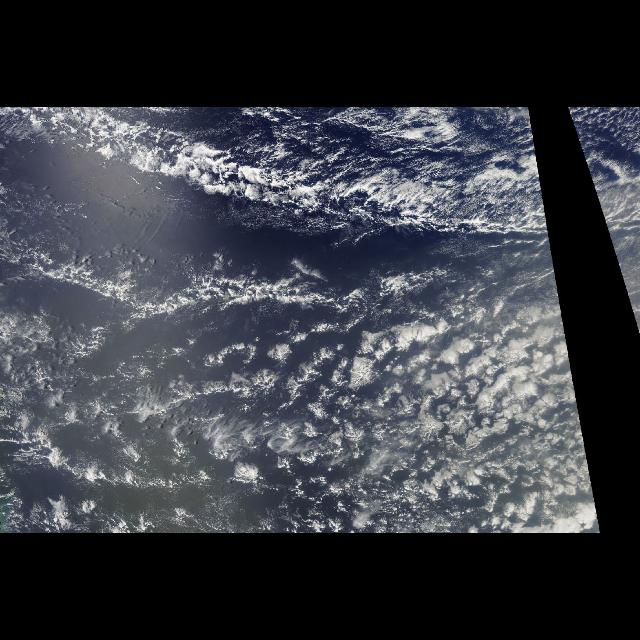Fish: (20, 108, 552, 306)
Flower: (115, 303, 572, 512)
Gravel: (19, 305, 578, 533)
